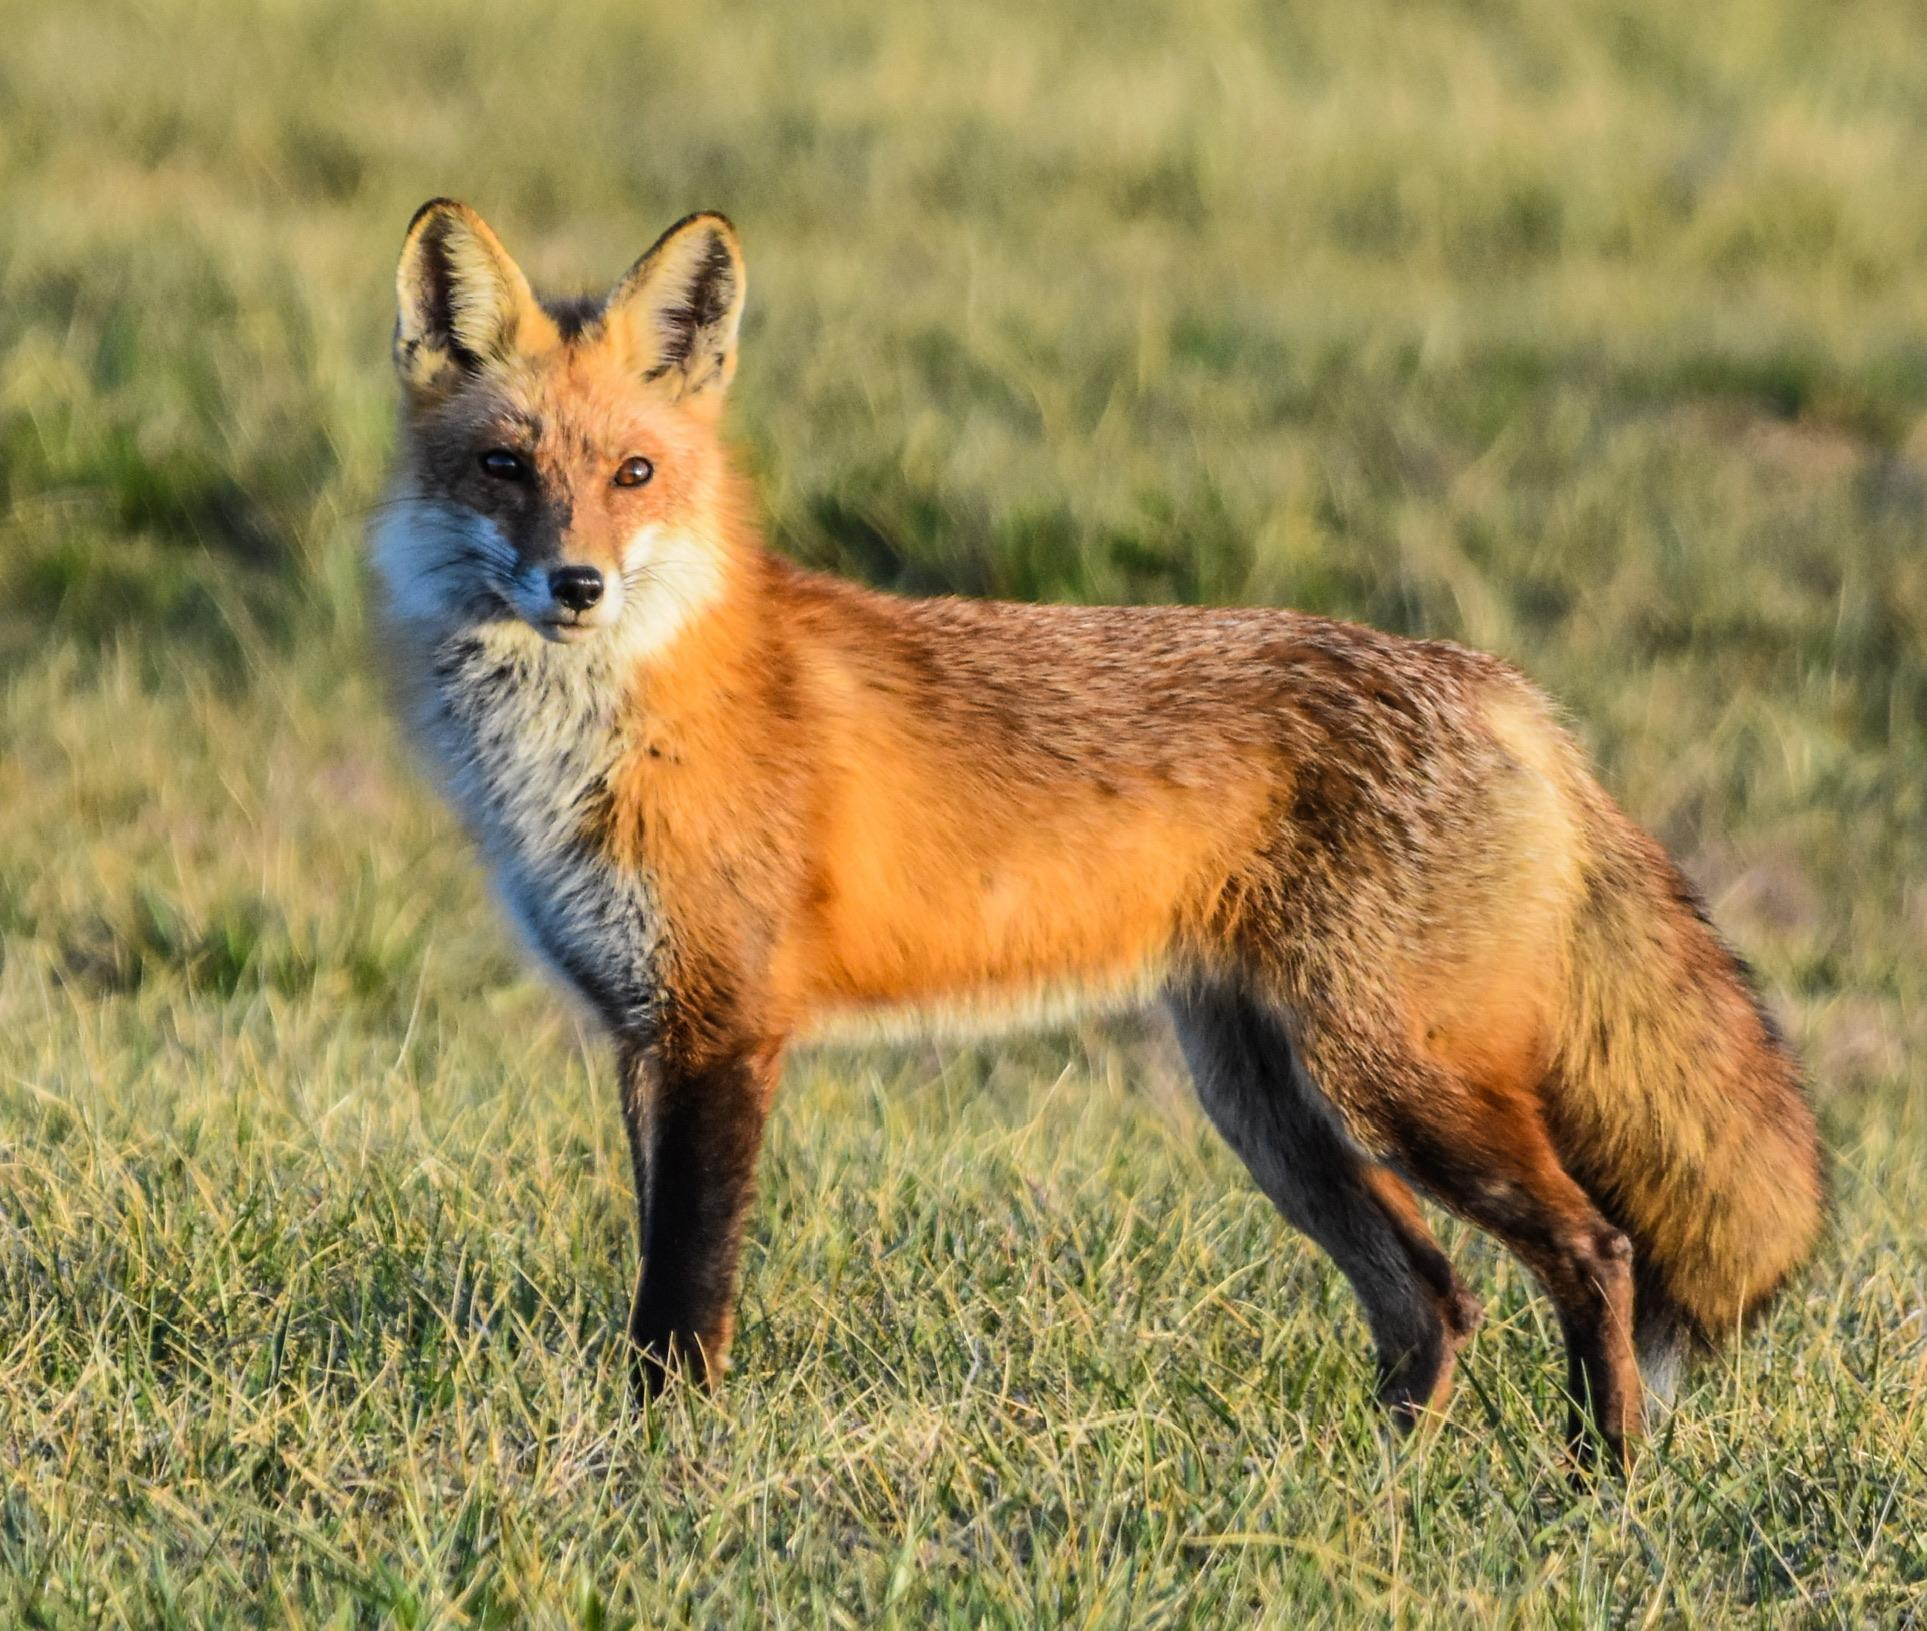fox: (361, 170, 1872, 1469)
